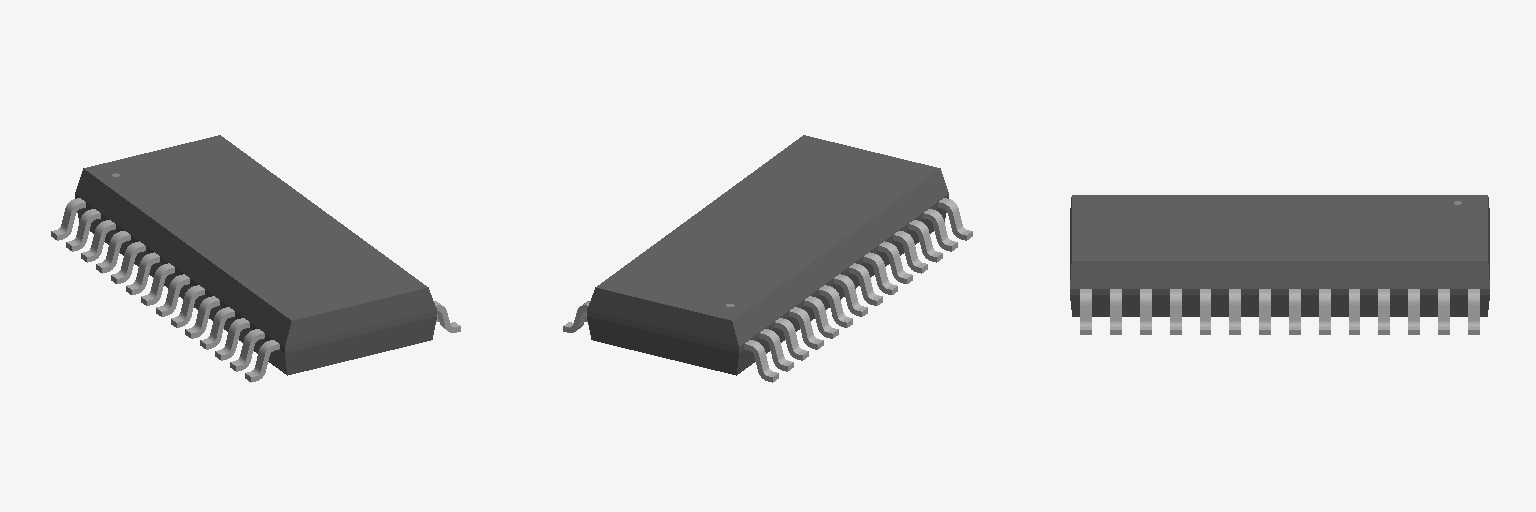
The model's file is SOIC28_SO_MCHtest.obj.
The picture shows the model from 3 angles: view 1: azimuth 30°, elevation 25°; view 2: azimuth 150°, elevation 25°; view 3: azimuth 270°, elevation 25°; orthographic projection.
Visible parts, largest first — view 1: part/SOLID; view 2: part/SOLID; view 3: part/SOLID.
Boxes of the visible parts, box(x1,y1,x2,y2) form: part/SOLID: box(51, 135, 460, 382); part/SOLID: box(563, 135, 972, 382); part/SOLID: box(1070, 195, 1489, 334).
Bounding box in the file's own units: 10.31 × 2.64 × 17.91.